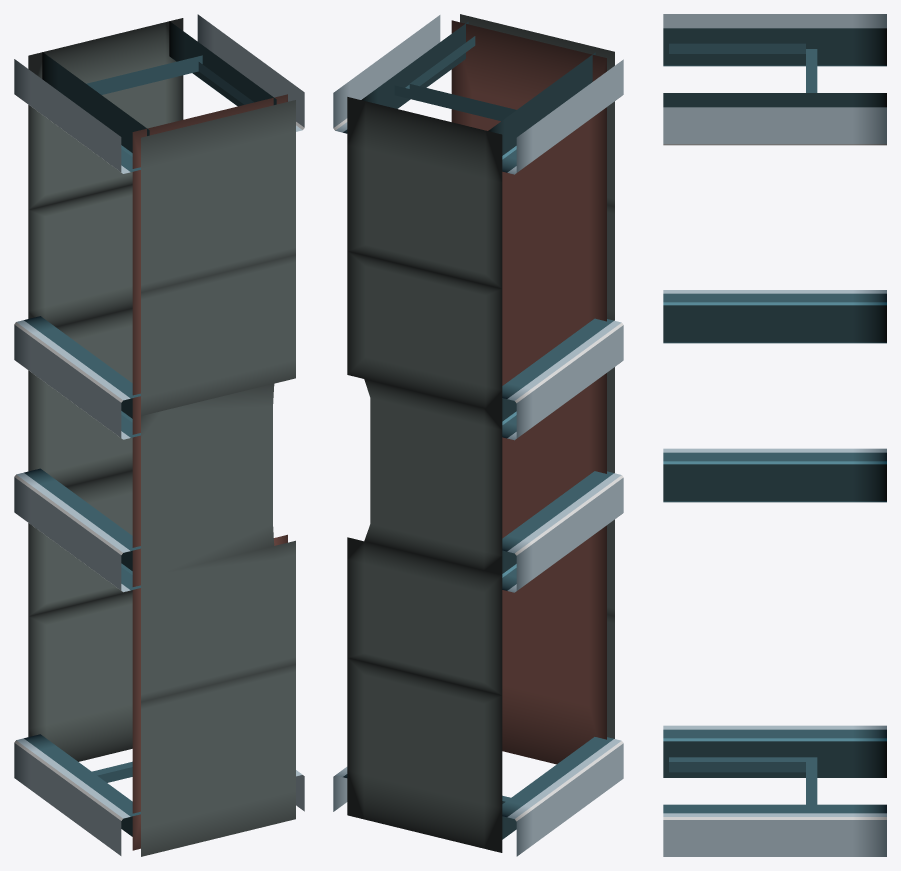
The model's file is SM_000233_w40h003_001roka_wall02_1.fbx.
3 views of the same model, side by side, from view 1: azimuth 30°, elevation 25°; view 2: azimuth 150°, elevation 25°; view 3: azimuth 270°, elevation 25° (orthographic). The views are drawn at different scales.
Parts seen in each view (by area): view 1: SM_000233.001; view 2: SM_000233.001; view 3: SM_000233.001.
Part boxes in pixels (bbox=[...]): SM_000233.001: bbox=[14, 14, 304, 856]; SM_000233.001: bbox=[333, 14, 623, 856]; SM_000233.001: bbox=[663, 14, 886, 856].
Bounding box in the file's own units: 3.9 × 14.62 × 4.15.
